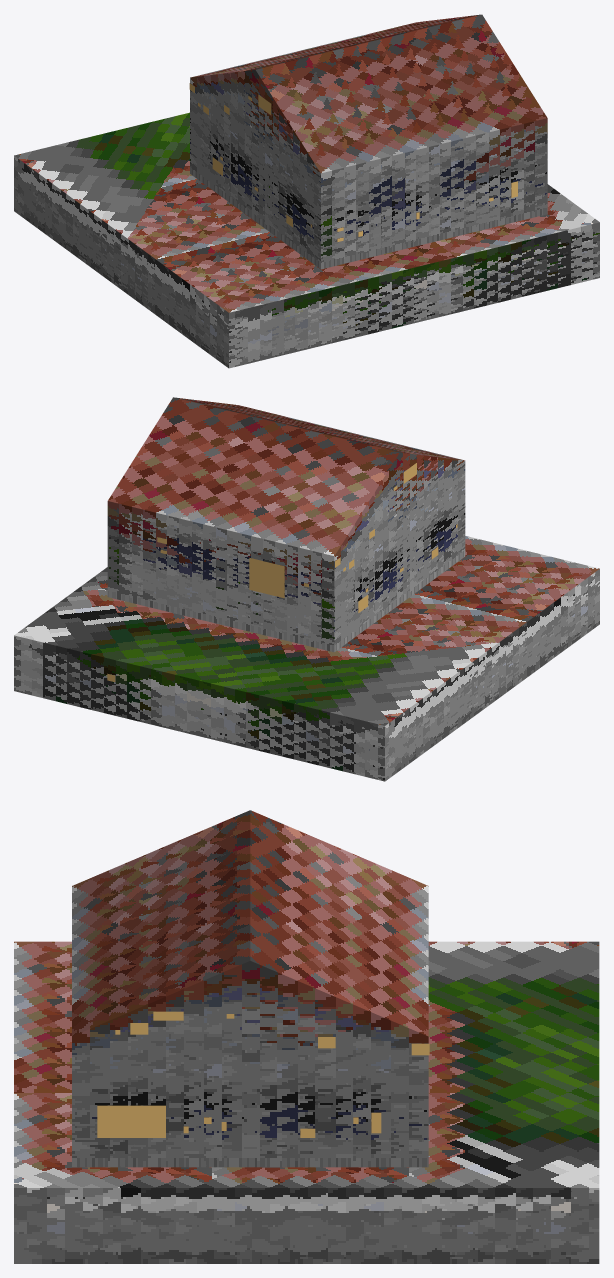
Rendered from dum_4f_domy.glb.
3 views of the same model, one above another, from view 1: azimuth 30°, elevation 25°; view 2: azimuth 150°, elevation 25°; view 3: azimuth 270°, elevation 25° (orthographic). The views are drawn at different scales.
Parts seen in each view (by area): view 1: object 1, noc; view 2: object 1, noc; view 3: object 1, noc.
Part boxes in pixels (x1=…): object 1: x1=14, y1=14, x2=599, y2=368; noc: x1=189, y1=83, x2=517, y2=241; object 1: x1=14, y1=397, x2=599, y2=781; noc: x1=107, y1=463, x2=457, y2=682; object 1: x1=14, y1=810, x2=599, y2=1263; noc: x1=97, y1=1011, x2=429, y2=1137.
Bounding box in the file's own units: 14.38 × 7.69 × 14.45.
Materials: 1 (1 with a texture image).
